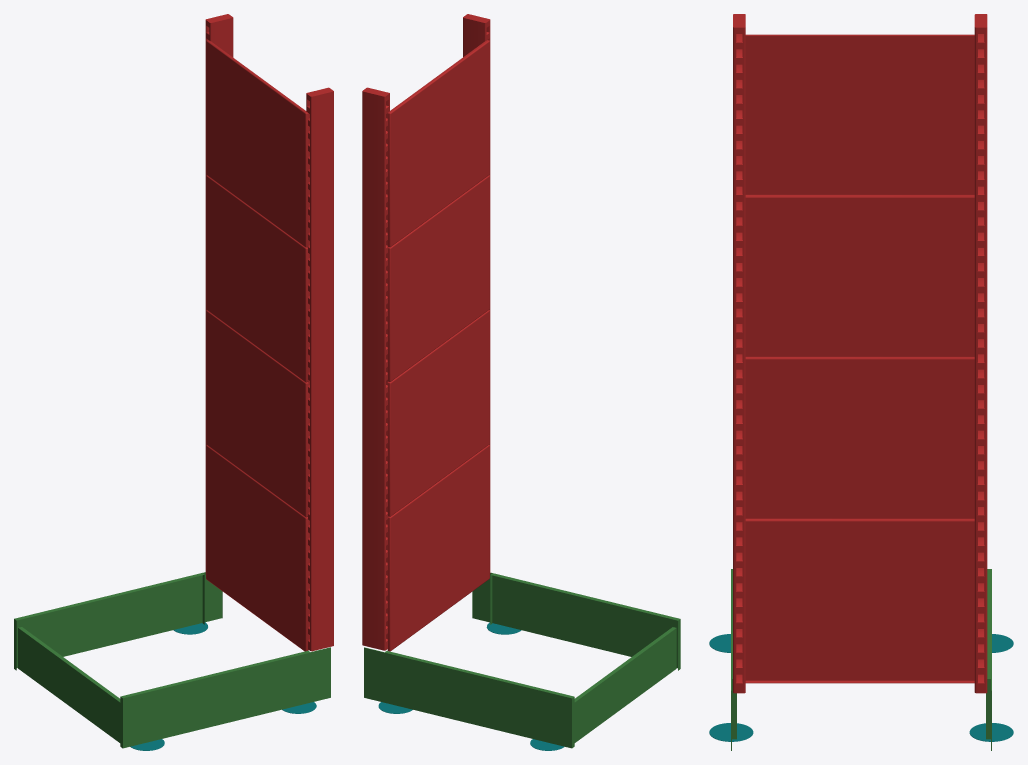
Rendered from SM_Shelves_Base_06.fbx.
3 views of the same model, side by side, from view 1: azimuth 30°, elevation 25°; view 2: azimuth 150°, elevation 25°; view 3: azimuth 270°, elevation 25° (orthographic). The views are drawn at different scales.
Parts seen in each view (by area): view 1: SM_Shelves_Base_06; view 2: SM_Shelves_Base_06; view 3: SM_Shelves_Base_06.
Part boxes in pixels (x1=…): SM_Shelves_Base_06: x1=14, y1=14, x2=333, y2=750; SM_Shelves_Base_06: x1=362, y1=14, x2=680, y2=750; SM_Shelves_Base_06: x1=709, y1=14, x2=1013, y2=750.
Bounding box in the file's own units: 73.23 × 200 × 75.77.
